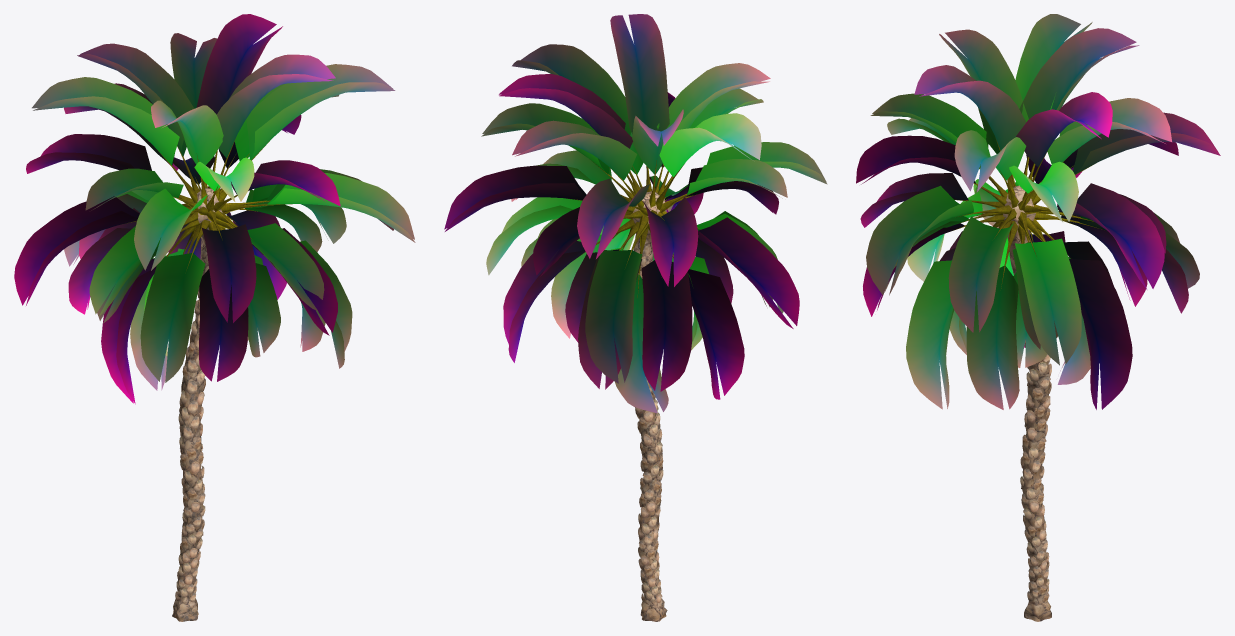
File: Palme.fbx
The picture shows the model from 3 angles, left to right: view 1: azimuth 30°, elevation 25°; view 2: azimuth 150°, elevation 25°; view 3: azimuth 270°, elevation 25°; orthographic projection. The views are drawn at different scales.
Parts seen in each view (by area): view 1: tree; view 2: tree; view 3: tree.
Part boxes in pixels (box(x1,y1,x2,y2)): tree: box(14, 14, 415, 621); tree: box(444, 14, 827, 621); tree: box(856, 14, 1220, 621).
Bounding box in the file's own units: 38732 × 63456 × 36562.
